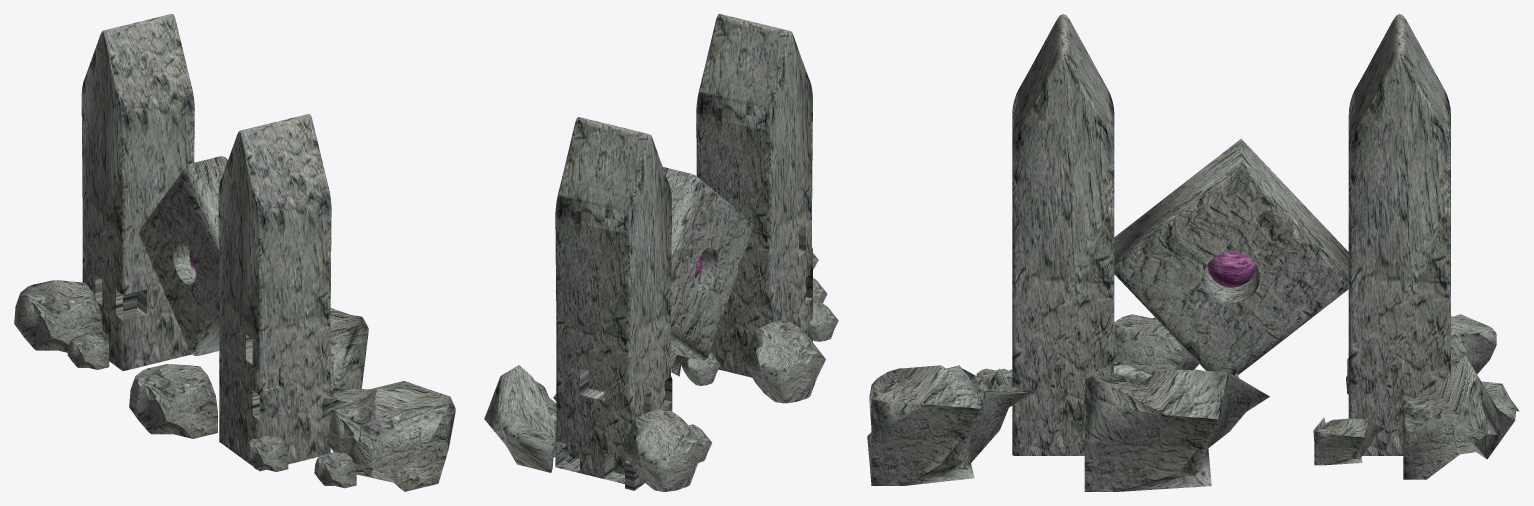
File: lightfor shitou.fbx
3 views of the same model, side by side, from view 1: azimuth 30°, elevation 25°; view 2: azimuth 150°, elevation 25°; view 3: azimuth 270°, elevation 25° (orthographic). The views are drawn at different scales.
Visible parts, largest first — view 1: Box004, Box001, Box007, Box003, Box008, Box005, Box012, Box011, Box010, Box009; view 2: Box001, Box004, Box003, Box006, Box008, Box005, Box013, Box010; view 3: Box004, Box001, Box003, Box012, Box007, Box006, Box008, Box014, Box005, Sphere001.
Boxes of the visible parts, left/top/right/bottom form: Box004: left=218, top=114, right=331, bottom=471; Box001: left=81, top=14, right=194, bottom=371; Box007: left=320, top=381, right=455, bottom=491; Box003: left=138, top=156, right=227, bottom=355; Box008: left=129, top=364, right=217, bottom=438; Box005: left=14, top=280, right=102, bottom=352; Box012: left=330, top=308, right=368, bottom=393; Box011: left=314, top=452, right=356, bottom=488; Box010: left=246, top=436, right=288, bottom=471; Box009: left=67, top=334, right=109, bottom=369; Box001: left=555, top=117, right=672, bottom=490; Box004: left=696, top=14, right=812, bottom=377; Box003: left=663, top=167, right=753, bottom=360; Box006: left=484, top=365, right=566, bottom=472; Box008: left=742, top=319, right=825, bottom=403; Box005: left=622, top=408, right=705, bottom=491; Box013: left=681, top=352, right=720, bottom=385; Box010: left=808, top=301, right=838, bottom=341; Box004: left=1012, top=14, right=1114, bottom=455; Box001: left=1348, top=14, right=1450, bottom=455; Box003: left=1114, top=139, right=1348, bottom=375; Box012: left=1082, top=360, right=1269, bottom=491; Box007: left=867, top=365, right=1032, bottom=485; Box006: left=1403, top=355, right=1519, bottom=479; Box008: left=1114, top=314, right=1198, bottom=372; Box014: left=1313, top=418, right=1384, bottom=465; Box005: left=1451, top=314, right=1496, bottom=374; Sphere001: left=1207, top=252, right=1255, bottom=287.
Size of the model in its own units: 152 by 216 by 319.
Materials: 2 (2 with a texture image).
